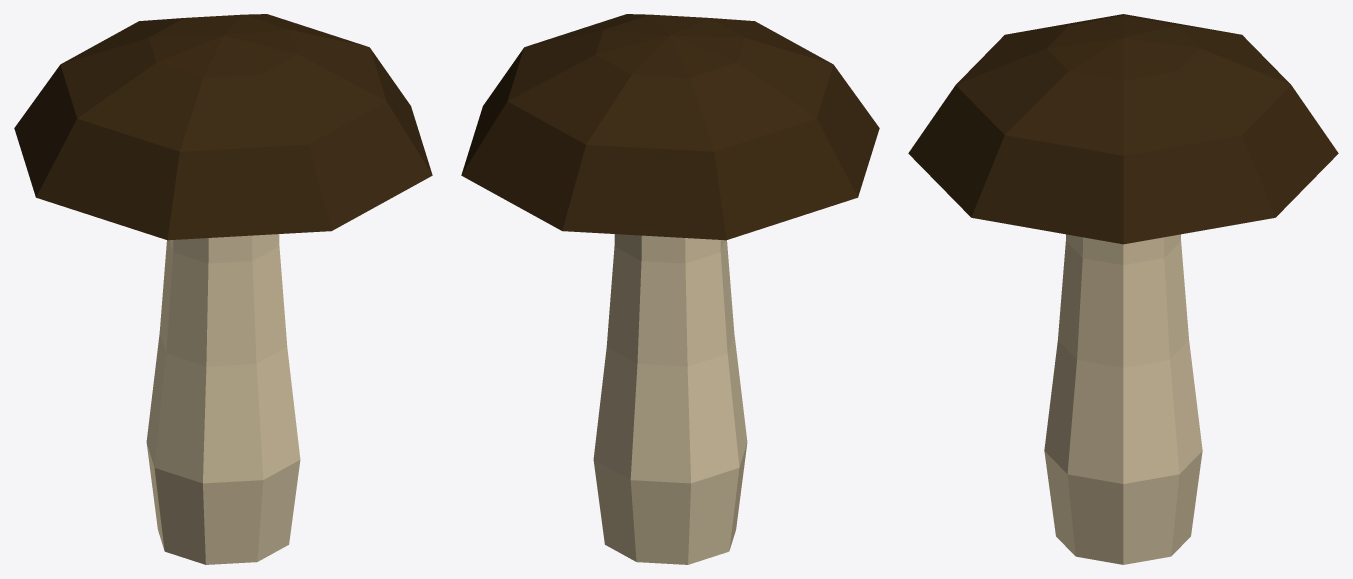
The model's file is Brown Mushroom.fbx.
3 views of the same model, side by side, from view 1: azimuth 30°, elevation 25°; view 2: azimuth 150°, elevation 25°; view 3: azimuth 270°, elevation 25° (orthographic).
Parts seen in each view (by area): view 1: Brown Mushroom; view 2: Brown Mushroom; view 3: Brown Mushroom.
Boxes of the visible parts, box(x1,y1,x2,y2) form: Brown Mushroom: box(14, 14, 432, 564); Brown Mushroom: box(461, 14, 879, 564); Brown Mushroom: box(908, 14, 1338, 564).
Bounding box in the file's own units: 69.93 × 93.84 × 69.93.
